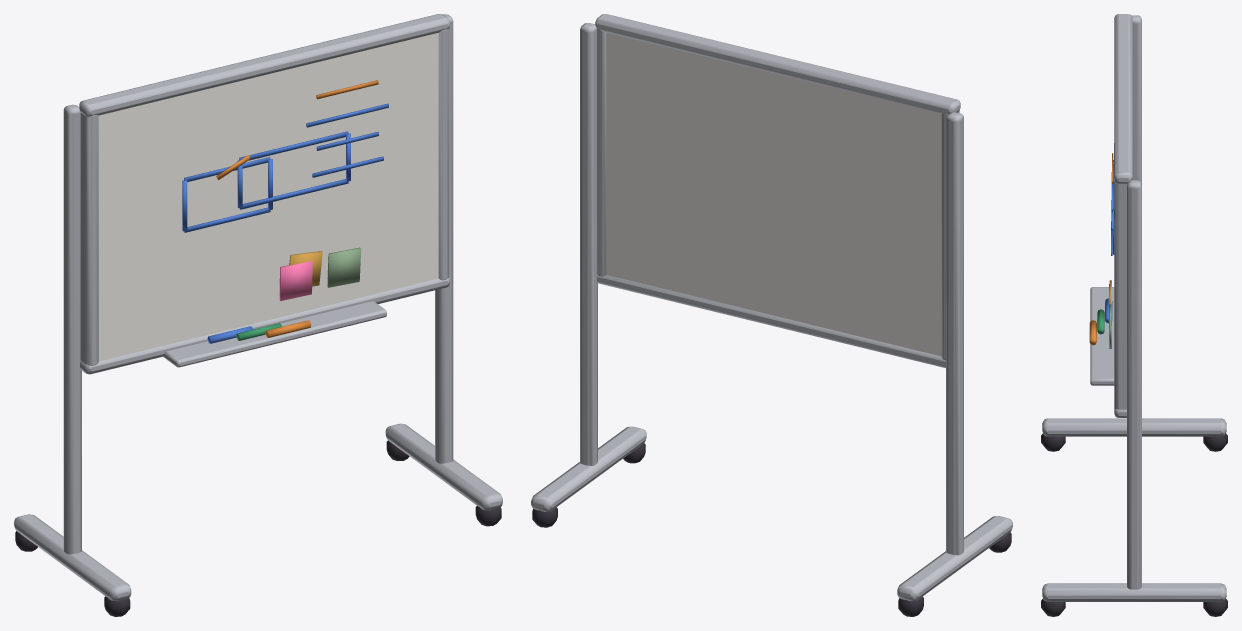
The model's file is whiteboard_wall_l1.glb.
3 views of the same model, side by side, from view 1: azimuth 30°, elevation 25°; view 2: azimuth 150°, elevation 25°; view 3: azimuth 270°, elevation 25° (orthographic). The views are drawn at different scales.
Parts seen in each view (by area): view 1: whiteboard_wall_l1; view 2: whiteboard_wall_l1; view 3: whiteboard_wall_l1.
Boxes of the visible parts, x1,y1,x2,y2 form: whiteboard_wall_l1: (14, 14, 502, 616); whiteboard_wall_l1: (531, 14, 1012, 616); whiteboard_wall_l1: (1041, 14, 1227, 616).
Size of the model in its own units: 1.13 by 1.32 by 0.5066.
